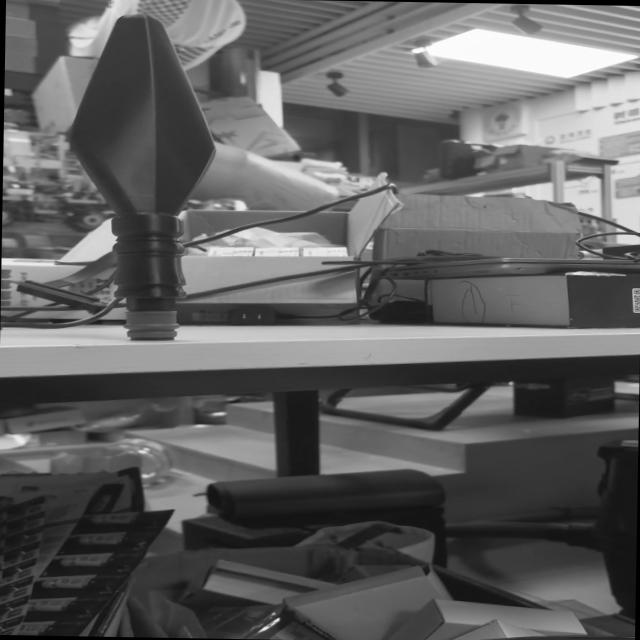base: (114, 306, 188, 348)
